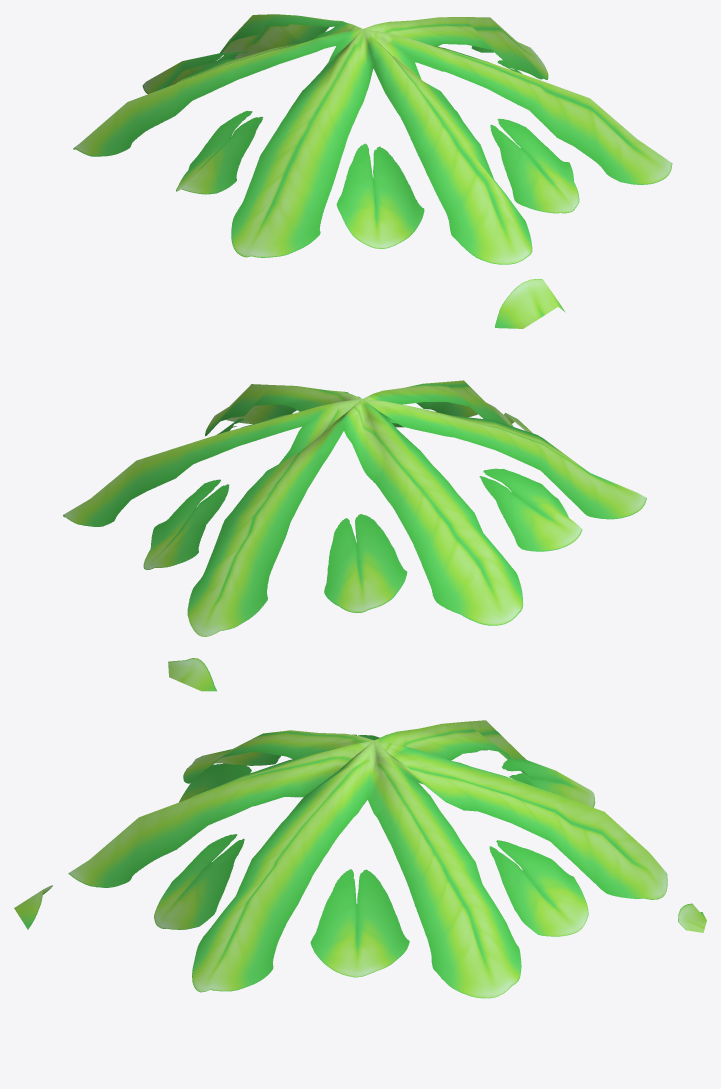
File: Bush.fbx
3 renders of one model, top to bottom at view 1: azimuth 30°, elevation 25°; view 2: azimuth 150°, elevation 25°; view 3: azimuth 270°, elevation 25°, orthographic. The views are drawn at different scales.
Parts seen in each view (by area): view 1: Line001; view 2: Line001; view 3: Line001.
Boxes of the visible parts, x1=… form: Line001: x1=73, y1=14, x2=672, y2=328; Line001: x1=63, y1=380, x2=646, y2=691; Line001: x1=14, y1=720, x2=706, y2=998.
Bounding box in the file's own units: 96.63 × 33.49 × 104.
